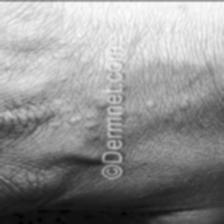Non-Cancerous Skin Condition: (5, 71, 96, 142)
